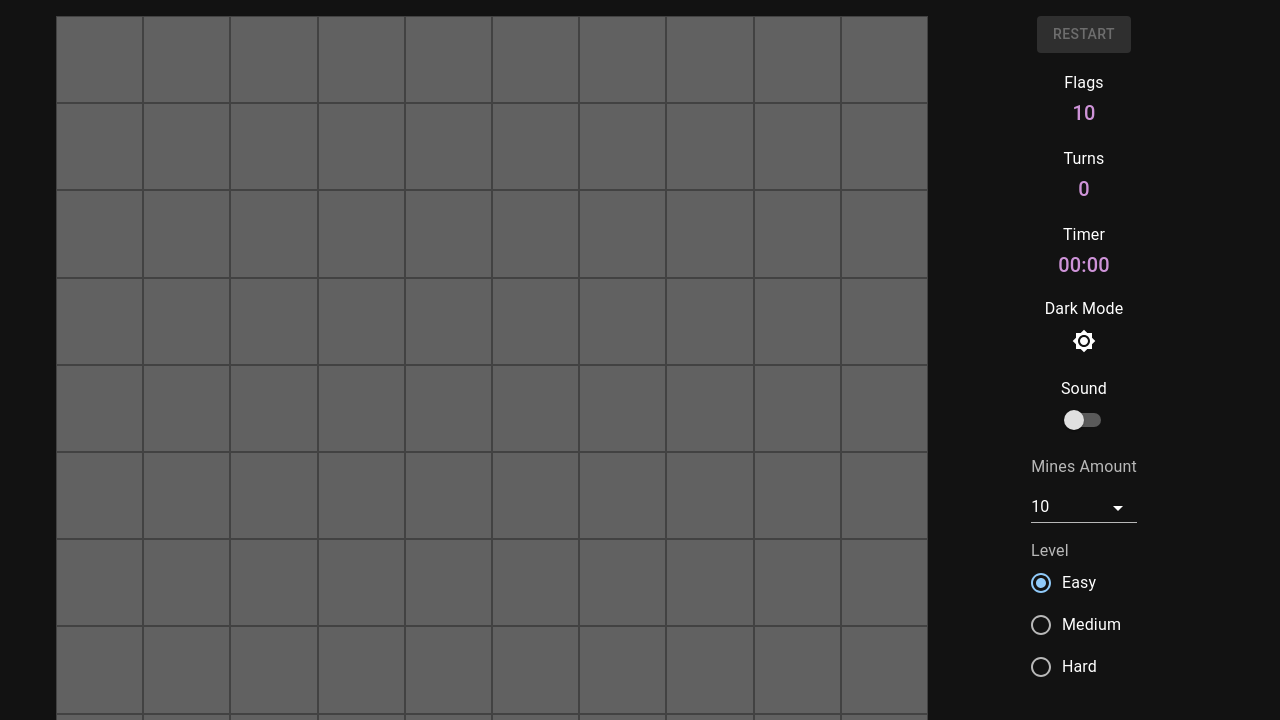
flag › number of mines and flags must be equal
Select "42" in the dropdown labelled "Mines Amount" at (1084, 509), box [1031,494,1137,523]
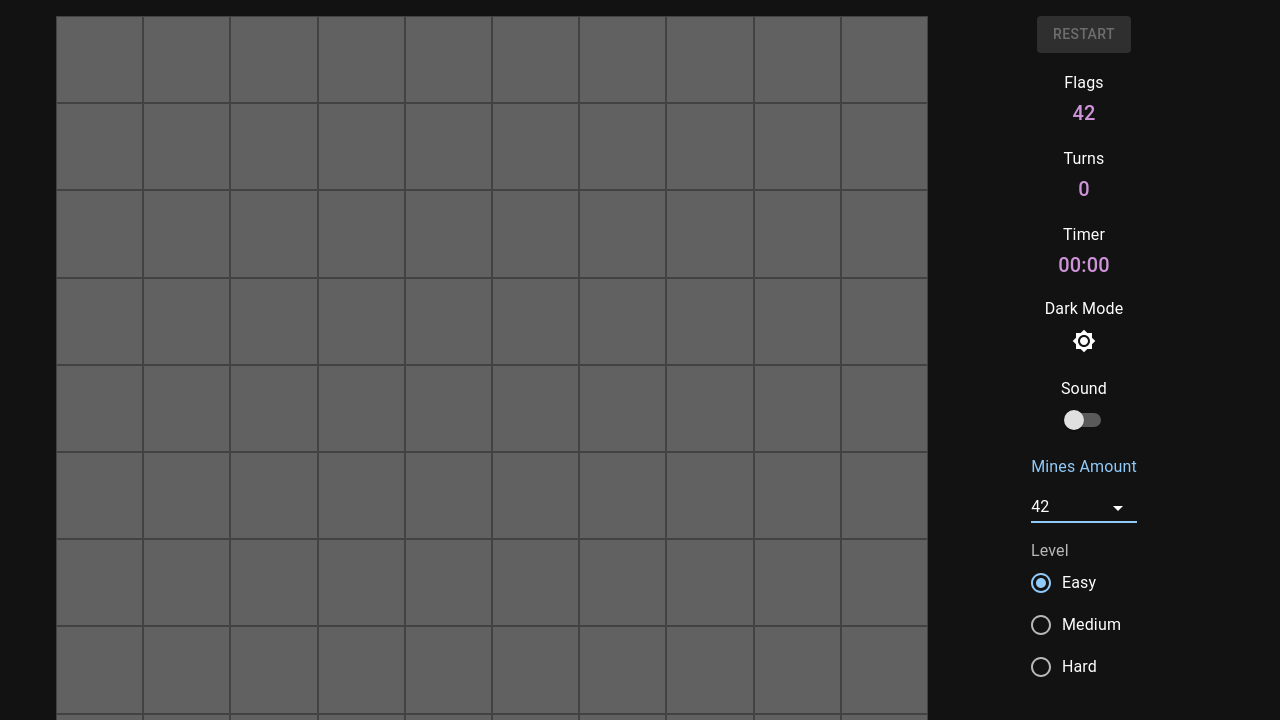
Result: the text with test id "stat-flags" reads "42" at [1072,101,1095,125]
